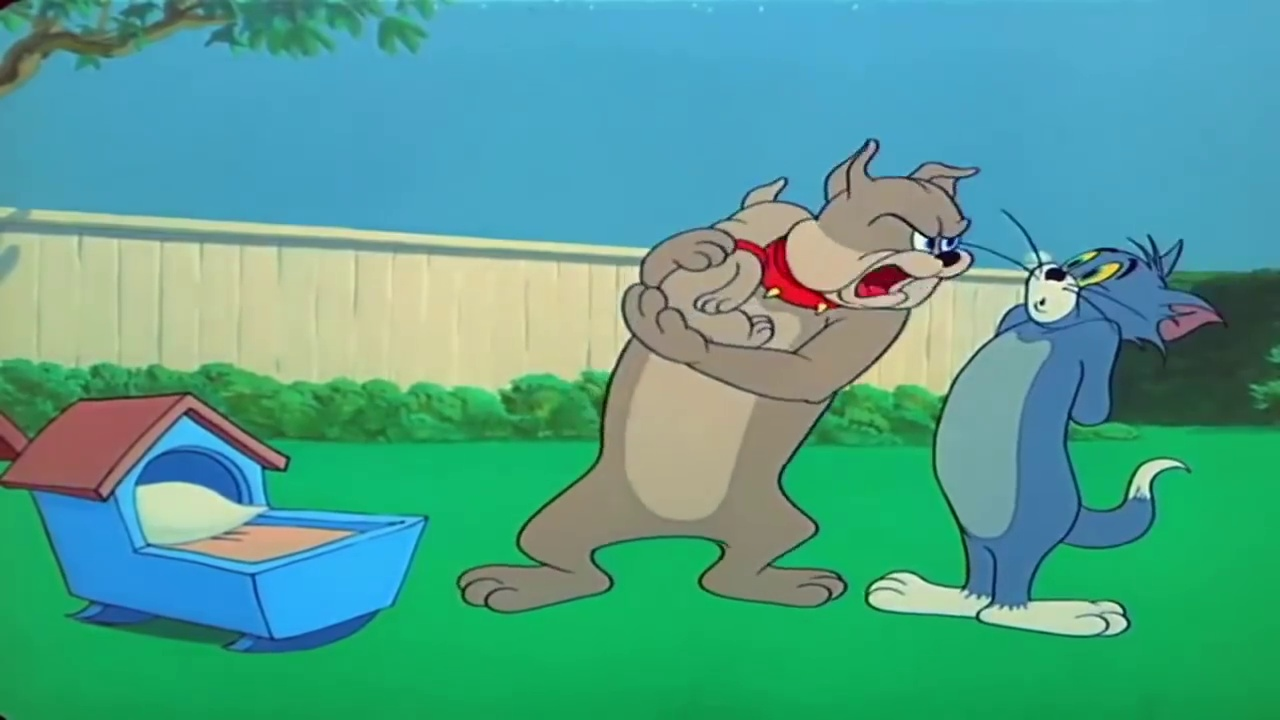spike: (760, 136, 982, 317)
tom: (1018, 227, 1229, 356)
